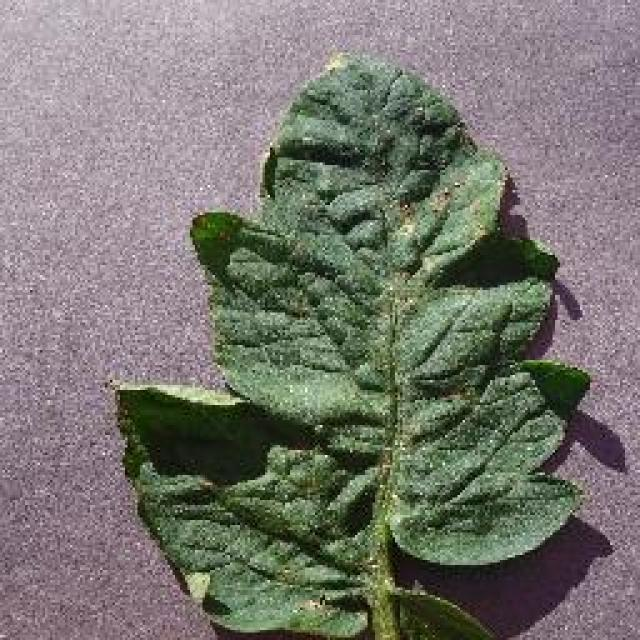Tomato___Target_Spot: (118, 55, 588, 638)
